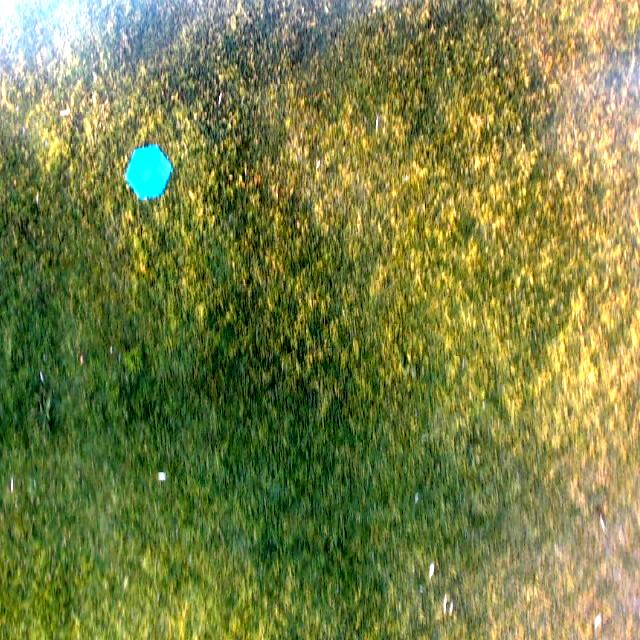blue_hexagon: (123, 145, 173, 199)
